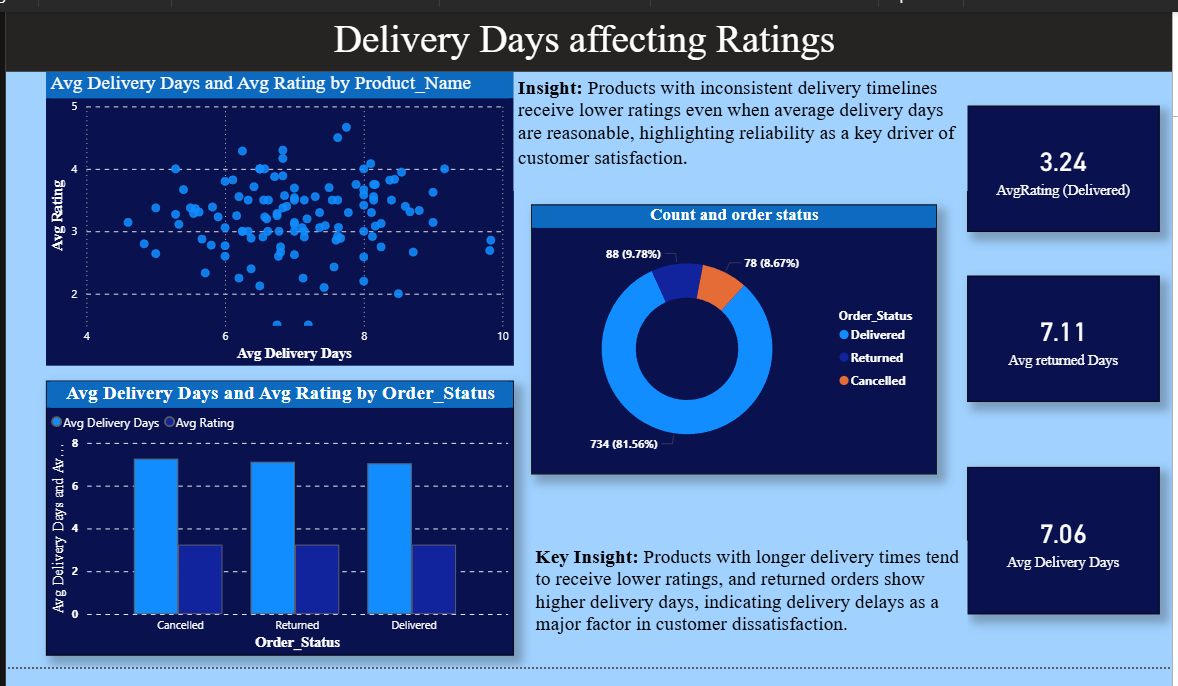

Layout of this report page (visuals, bound fields, positions):
{"tool":"powerbi","page":{"name":"Page 5","canvas":[1280,720],"ordinal":4},"visuals":[{"type":"scatterChart","fields":{"X":["Orders.Avg Delivery Days"],"Y":["Orders.Avg Rating"],"Category":["Products.Product_Name"]},"box":[43.9,65.9,513.2,322.5],"z":0},{"type":"donutChart","title":"Count and order status","fields":{"Category":["Orders.Order_Status"],"Y":["CountNonNull(Orders.Order_ID)"]},"box":[576.3,211.3,446,296.4],"z":1000},{"type":"card","fields":{"Values":["Orders.Avg Delivery Days"]},"box":[1055.2,499.5,211.3,161.9],"z":2000},{"type":"clusteredColumnChart","fields":{"Category":["Orders.Order_Status"],"Y":["Orders.Avg Delivery Days","Orders.Avg Rating"]},"box":[43.9,404.8,513.2,301.9],"z":3000},{"type":"textbox","box":[576.3,580.4,478.9,126.2],"z":4000},{"type":"textbox","box":[0,0,1280.3,65.9],"z":5000},{"type":"card","fields":{"Values":["Orders.AvgRating (Delivered)"]},"box":[1055.2,102.9,211.3,138.6],"z":6000},{"type":"card","fields":{"Values":["Orders.A Delivery Days (Returned)"]},"box":[1055.2,289.5,211.3,138.6],"z":7000},{"type":"textbox","box":[557.1,65.9,498.1,130.4],"z":8000}]}

Visuals, with their boxes on the page's 1280x720 design canvas (x1, y1, x2, y2). These are canvas units, not pixel positions in the 1178x686 screenshot, which may show the page scaled, cropped or inside an application window:
scatterChart - Orders.Avg Delivery Days x Orders.Avg Rating: box(44, 66, 557, 388)
"Count and order status" donutChart: box(576, 211, 1022, 508)
card - Orders.Avg Delivery Days: box(1055, 500, 1266, 661)
clusteredColumnChart - Orders.Order_Status x Orders.Avg Delivery Days: box(44, 405, 557, 707)
textbox: box(576, 580, 1055, 707)
textbox: box(0, 0, 1280, 66)
card - Orders.AvgRating (Delivered): box(1055, 103, 1266, 242)
card - Orders.A Delivery Days (Returned): box(1055, 290, 1266, 428)
textbox: box(557, 66, 1055, 196)
